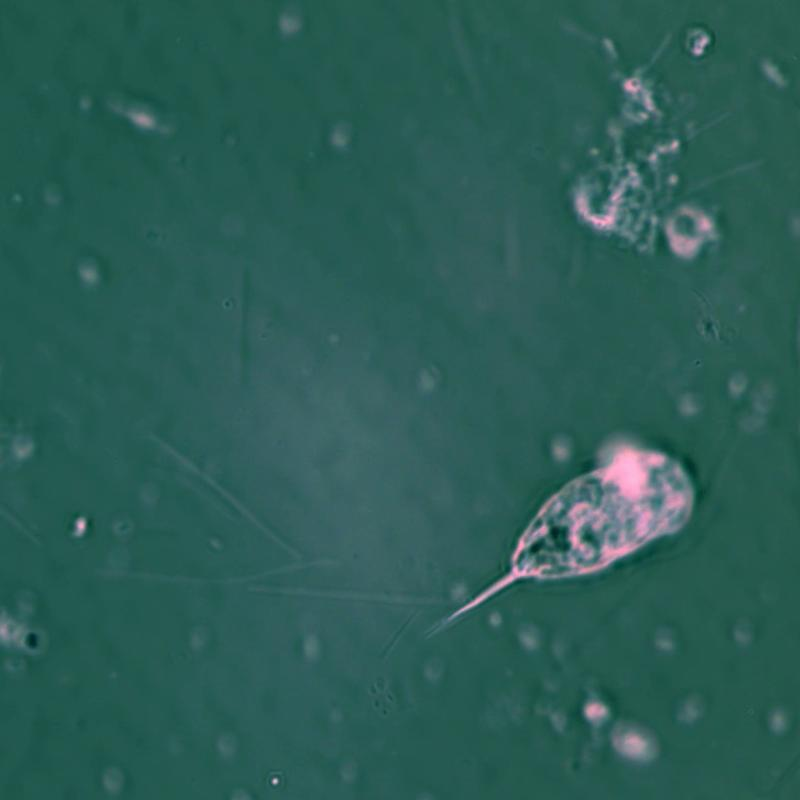depth:20: (412, 434, 730, 632)
